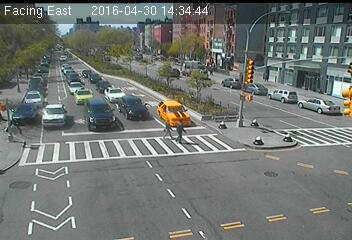neg: (103, 153, 135, 195), (63, 105, 94, 146), (291, 82, 319, 120), (240, 172, 264, 204), (174, 176, 198, 207), (244, 64, 267, 95), (7, 107, 30, 137), (58, 55, 80, 85), (134, 54, 156, 84), (277, 126, 298, 154), (199, 46, 220, 73), (285, 176, 304, 200), (245, 127, 263, 150)
pos: (176, 118, 194, 142), (157, 116, 175, 140)
